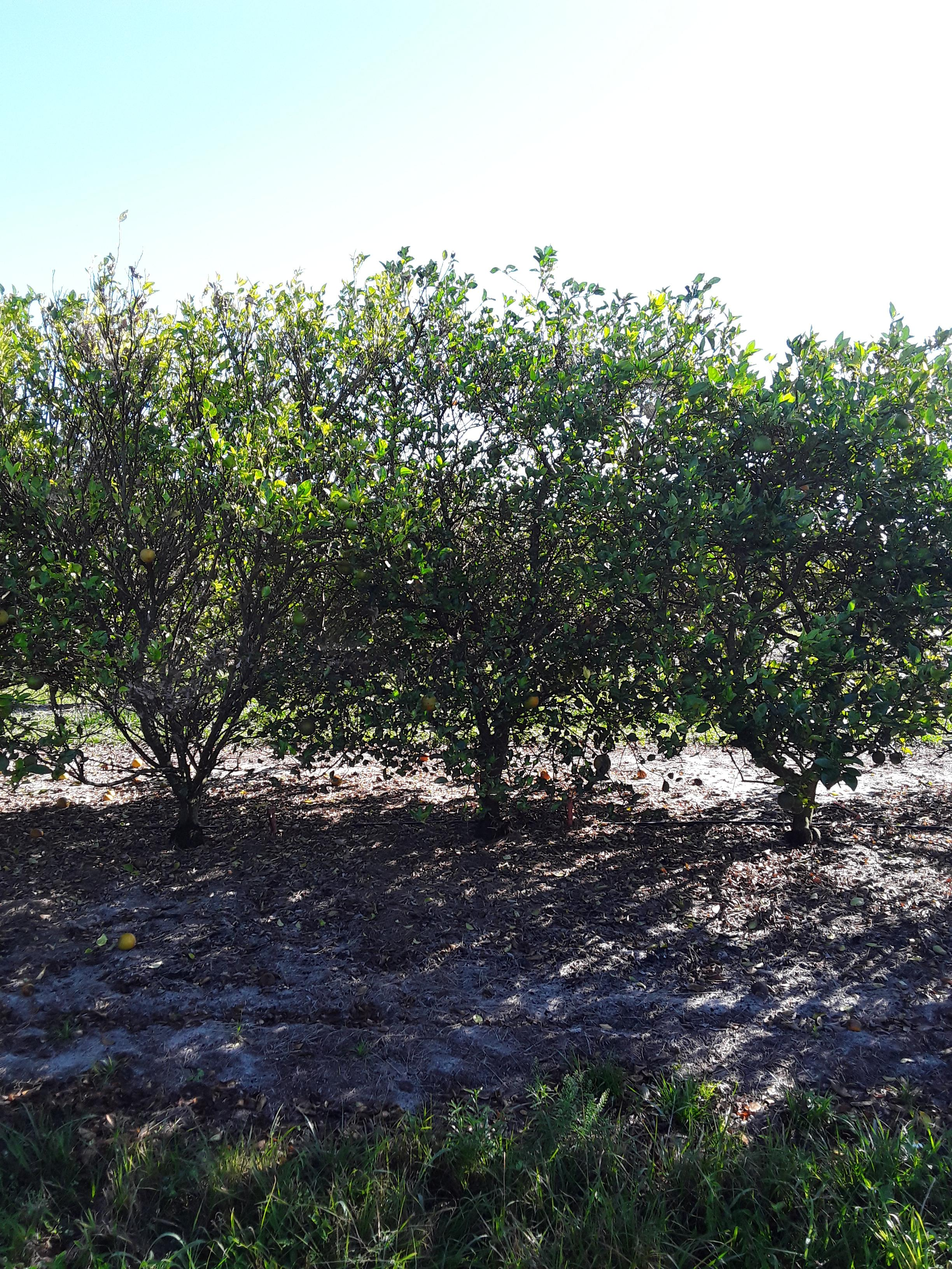fruit_on_ground: (591, 753, 614, 775), (852, 516, 874, 538), (751, 433, 774, 454), (295, 715, 318, 736), (775, 789, 796, 811), (289, 608, 310, 628), (787, 794, 808, 814), (138, 545, 158, 565), (837, 617, 858, 636), (891, 411, 911, 430), (25, 672, 45, 691), (336, 558, 355, 577), (522, 691, 541, 710), (420, 694, 439, 713), (485, 442, 504, 460), (23, 751, 40, 769), (870, 749, 888, 766), (343, 515, 361, 532), (334, 495, 352, 512), (887, 750, 905, 766), (0, 606, 12, 628), (652, 452, 668, 468), (749, 589, 764, 604), (571, 446, 584, 459), (660, 779, 672, 793)
fruit_on_tree: (115, 930, 139, 953), (51, 766, 70, 783), (845, 1017, 863, 1034), (28, 825, 45, 840), (54, 795, 71, 809), (129, 755, 145, 769), (538, 768, 554, 781), (329, 772, 343, 785), (635, 768, 648, 780), (417, 752, 431, 763), (692, 776, 704, 787), (131, 773, 144, 783), (101, 793, 114, 802), (105, 789, 116, 797)
